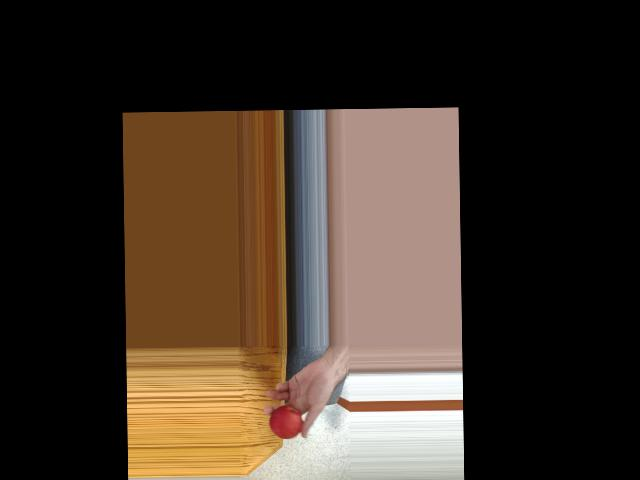apple: (269, 405, 307, 441)
